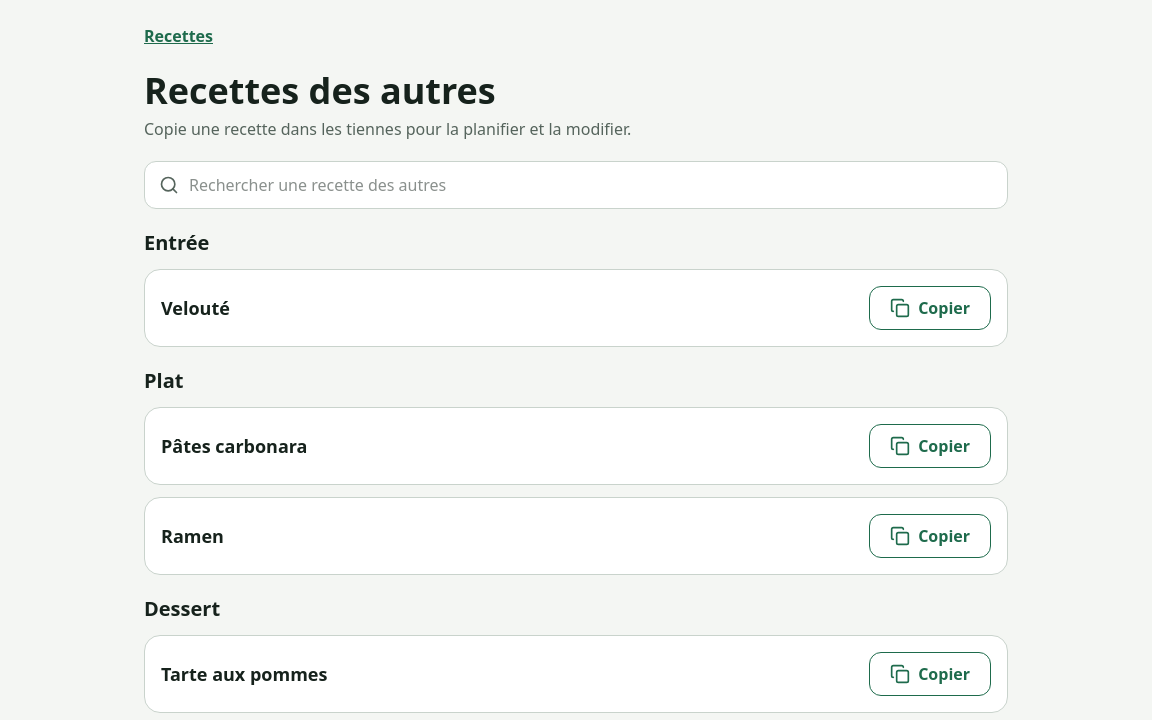
Test case: OtherRecipesView : copier › une autre recherche repart d’une liste neuve : la recette copiée n’y est pas ajoutée
The width and height of the screenshot is (1152, 720).
Click the button "Copier" in the row of "Pâtes carbonara". click: (930, 446)
box: [869,424,991,468]
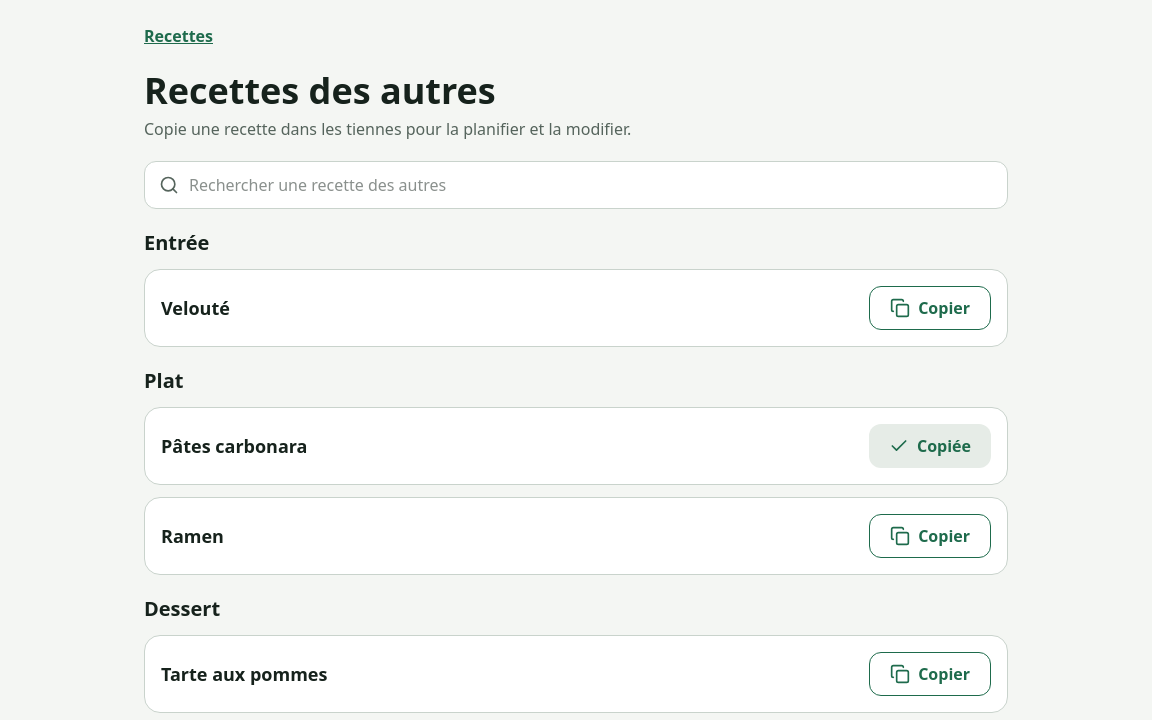
Type "tarte" into the search field with placeholder "Rechercher une recette des autres". click: (598, 185)
box: [189,165,1007,205]
Wait 300 ms
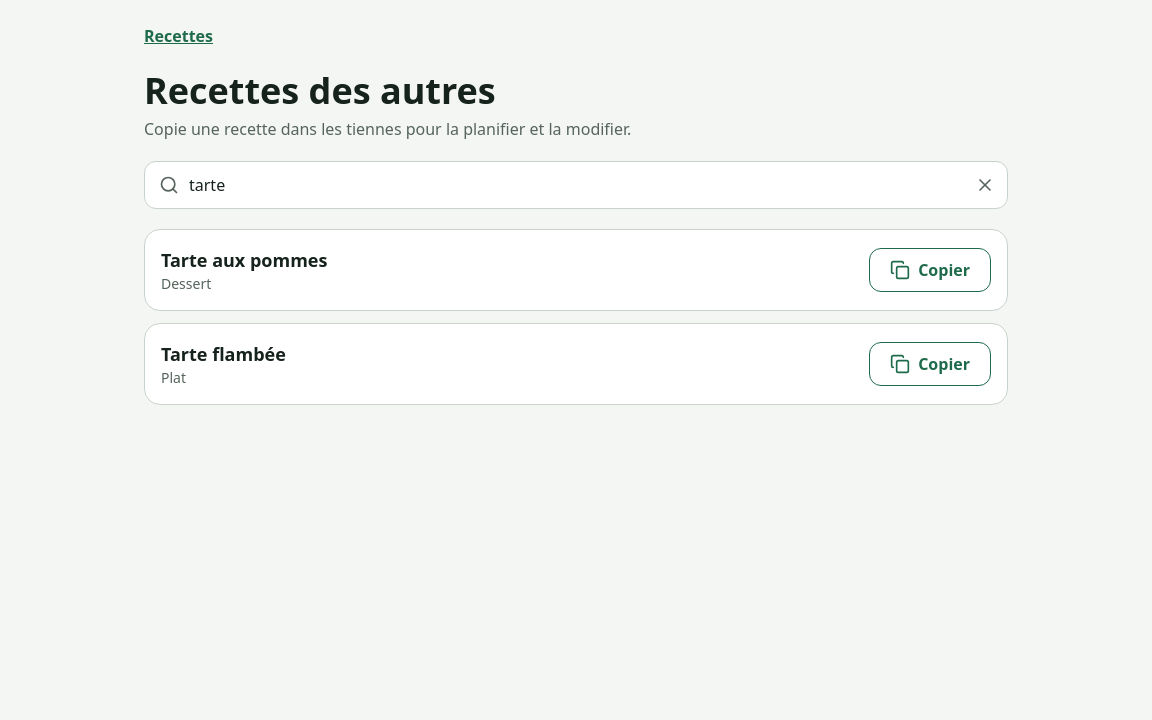
Now the text "Pâtes carbonara" is gone
Now the number of list items is 2, box [144,229,1008,311]; [144,323,1008,405]
